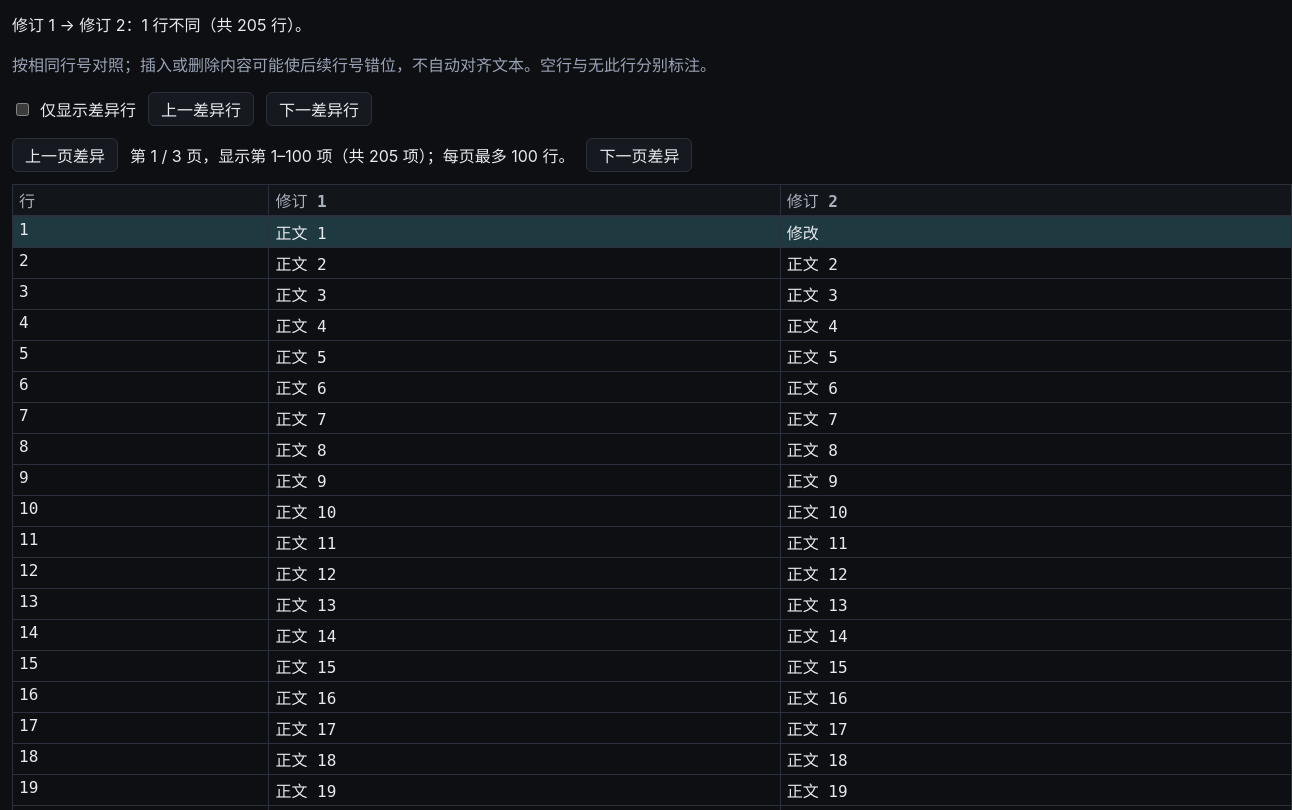
Prompt revision comparison usability › can navigate back to a change before a manually selected page with no further differences
Click the button "下一页差异" at x=639, y=155, box [586, 138, 692, 172]
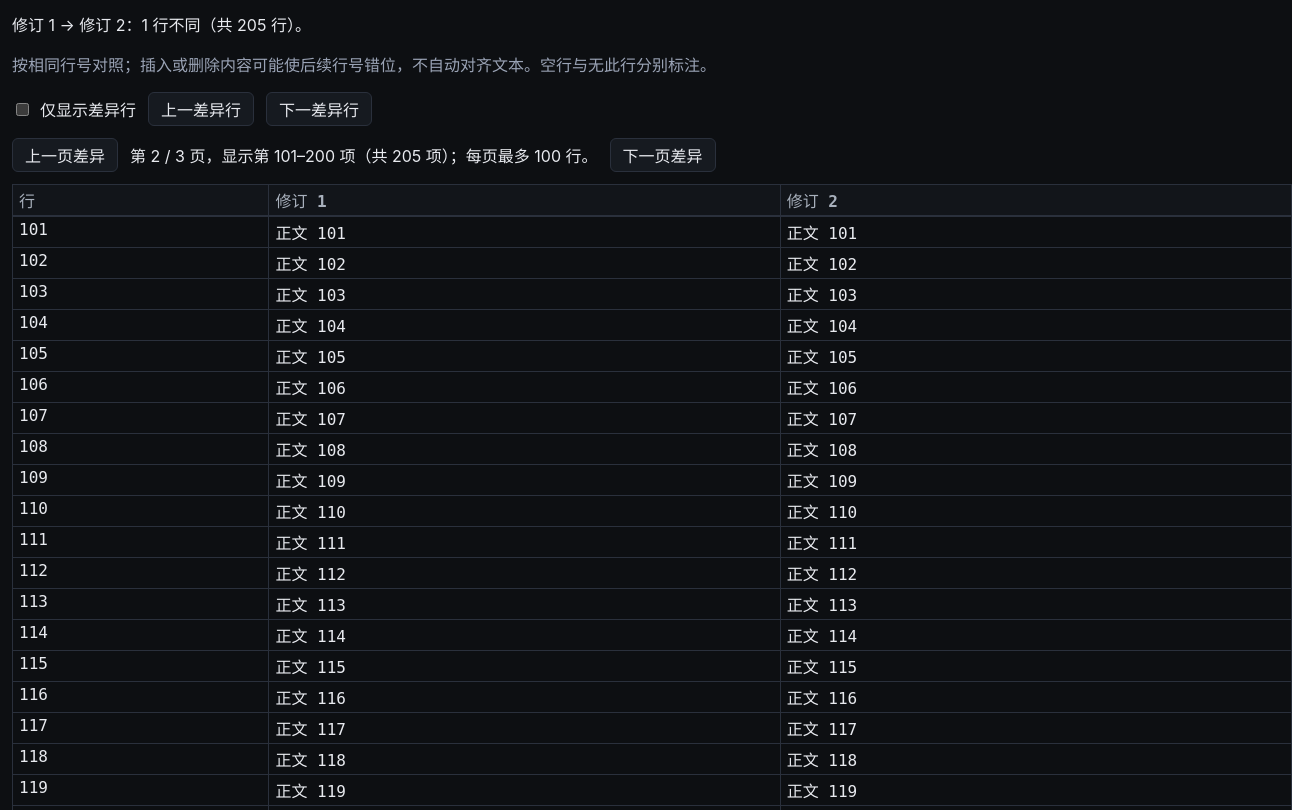
Expected: the button "下一差异行" is disabled, [266, 92, 372, 126]
Click the button "上一差异行" at x=201, y=109, box [148, 92, 254, 126]
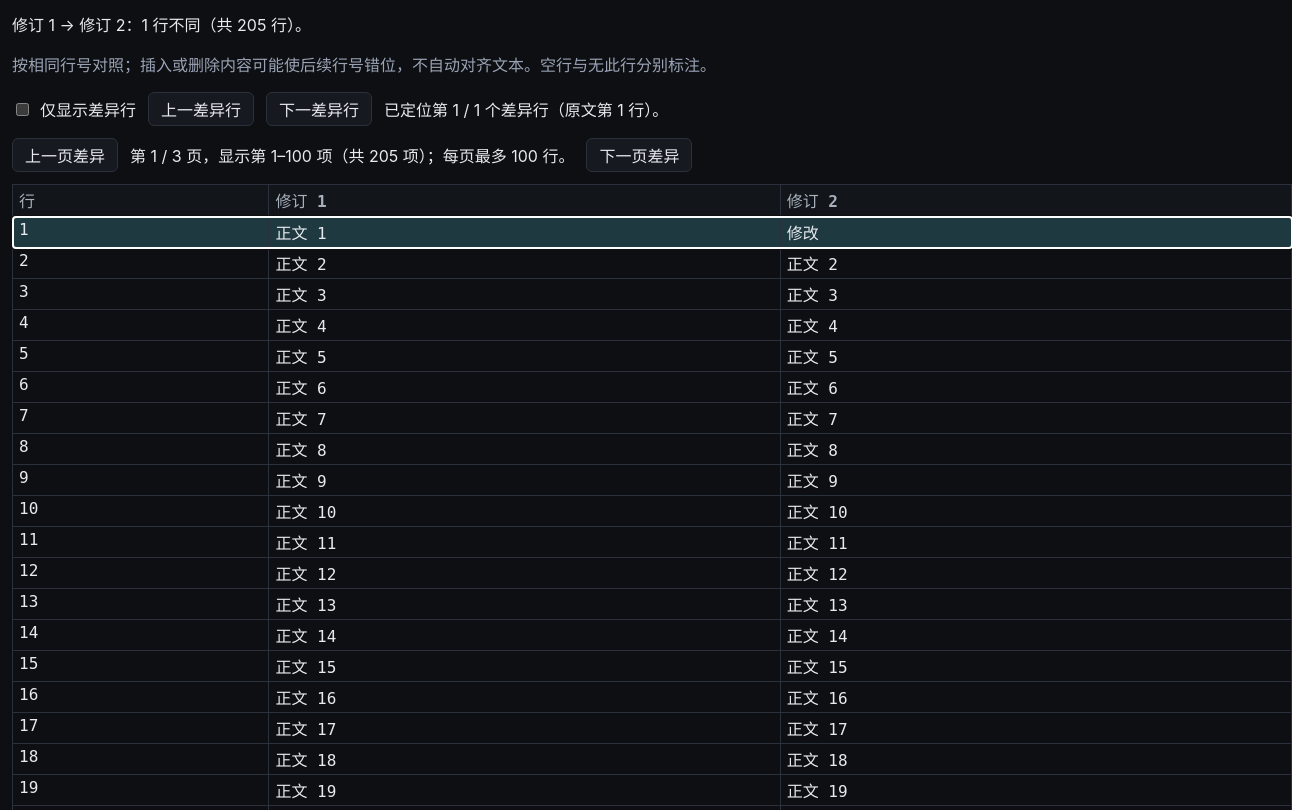
Expected: the text "1" is shown, [12, 216, 269, 248]
Now the text "已定位第 1 / 1 个差异行（原文第 1 行）。" is shown, box [384, 97, 668, 121]
